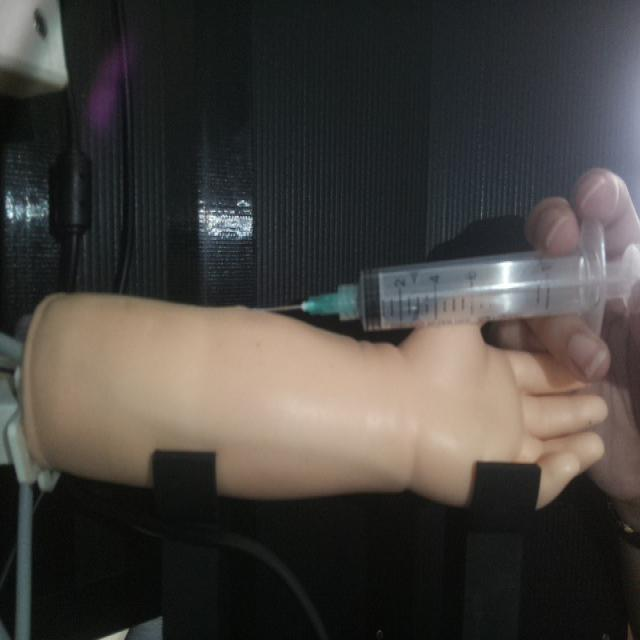Outside: (249, 210, 640, 340)
